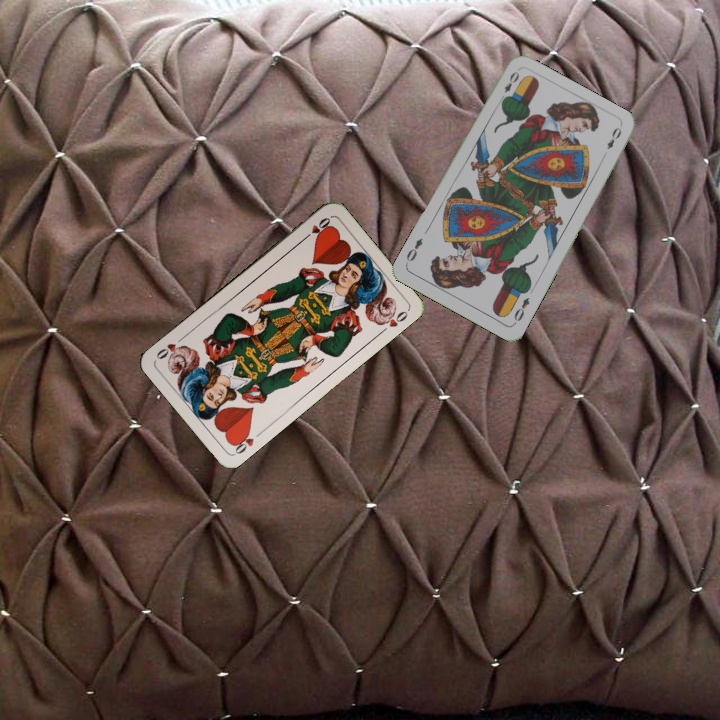EO: (496, 67, 522, 104), (510, 293, 532, 327)
HO: (228, 427, 265, 457), (299, 213, 333, 243)
